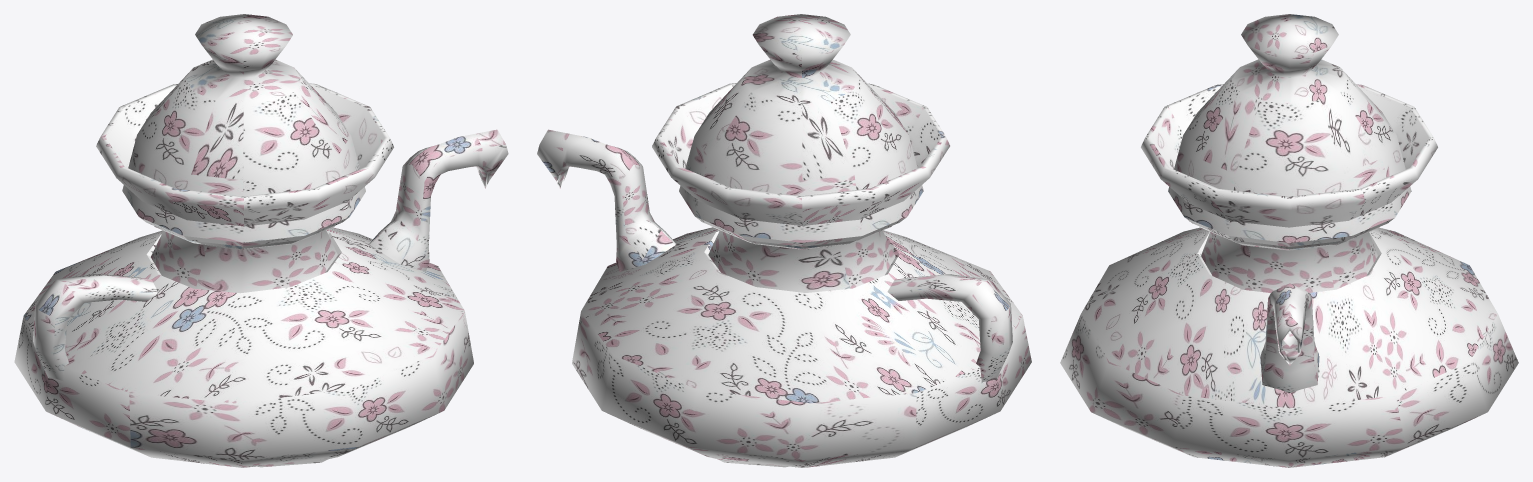
File: texutred teapot 3.FBX
The picture shows the model from 3 angles, left to right: view 1: azimuth 30°, elevation 25°; view 2: azimuth 150°, elevation 25°; view 3: azimuth 270°, elevation 25°; orthographic projection.
Visible parts, largest first — view 1: 8; view 2: 8; view 3: 8.
Boxes of the visible parts, bbox=[...] form: 8: bbox=[14, 14, 508, 467]; 8: bbox=[537, 14, 1031, 467]; 8: bbox=[1060, 14, 1518, 467].
Size of the model in its own units: 40.16 by 31.96 by 34.13.
1 material, 1 textured.
